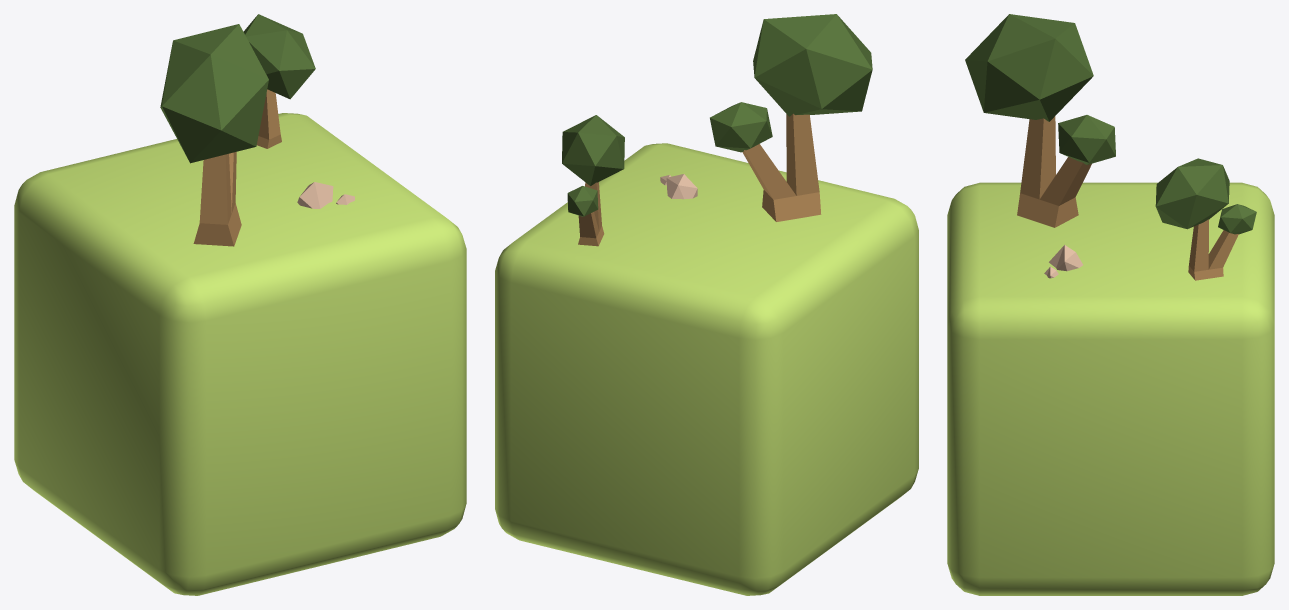
Rendered from forest1.fbx.
The picture shows the model from 3 angles, left to right: view 1: azimuth 30°, elevation 25°; view 2: azimuth 150°, elevation 25°; view 3: azimuth 270°, elevation 25°; orthographic projection. The views are drawn at different scales.
Visible parts, largest first — view 1: Cube.058, Icosphere.046, Icosphere.049, Cube.083, Cube.084, Icosphere.056; view 2: Cube.058, Icosphere.046, Cube.083, Icosphere.049, Icosphere.047, Cube.084, Icosphere.048, Icosphere.056; view 3: Cube.058, Icosphere.046, Cube.083, Icosphere.049, Icosphere.047, Cube.084, Icosphere.048, Icosphere.056.
Part boxes in pixels (x1,y1,x2,y2): Cube.058: (14, 113, 466, 595); Icosphere.046: (160, 24, 268, 163); Icosphere.049: (243, 14, 315, 99); Cube.083: (193, 152, 241, 246); Cube.084: (256, 89, 281, 148); Icosphere.056: (297, 182, 333, 208); Cube.058: (495, 143, 918, 595); Icosphere.046: (753, 14, 872, 116); Cube.083: (742, 113, 821, 221); Icosphere.049: (562, 115, 624, 185); Icosphere.047: (710, 102, 772, 152); Cube.084: (578, 182, 604, 246); Icosphere.048: (567, 186, 598, 216); Icosphere.056: (666, 174, 697, 199); Cube.058: (947, 182, 1274, 595); Icosphere.046: (965, 14, 1093, 121); Cube.083: (1017, 116, 1091, 227); Icosphere.049: (1155, 158, 1229, 229); Icosphere.047: (1058, 115, 1115, 164); Cube.084: (1188, 219, 1238, 280); Icosphere.048: (1218, 204, 1256, 234); Icosphere.056: (1049, 245, 1082, 271).
Bounding box in the file's own units: 200 × 327 × 200.
